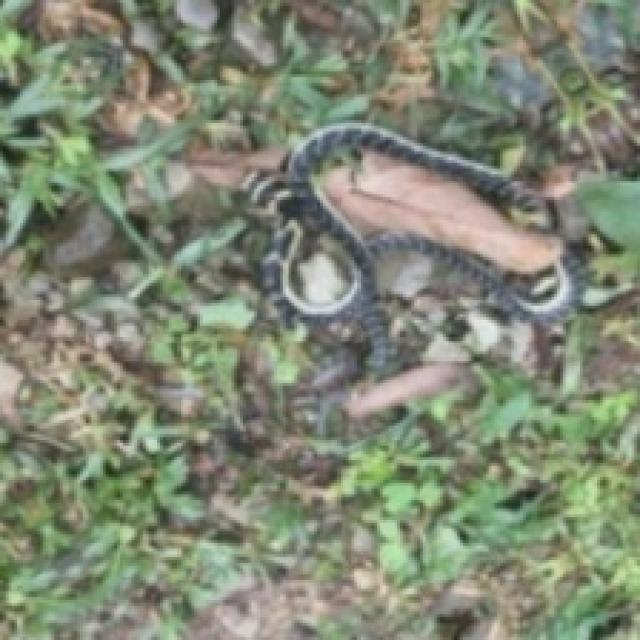king cobra: (251, 123, 577, 366)
